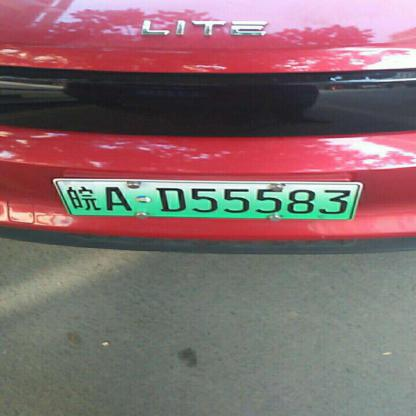lp: (54, 180, 72, 220)
